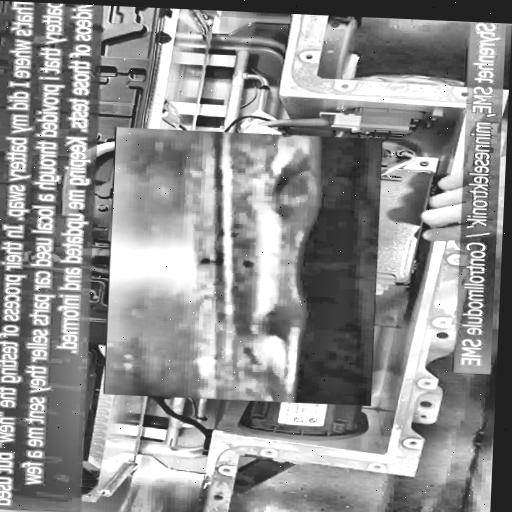high_volt_cable: (247, 116, 334, 129)
low_volt_cable: (150, 397, 212, 452)
